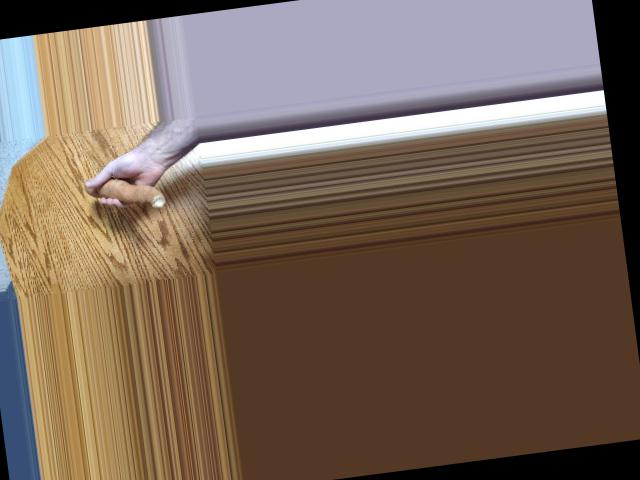sweet_potato: (80, 171, 171, 216)
